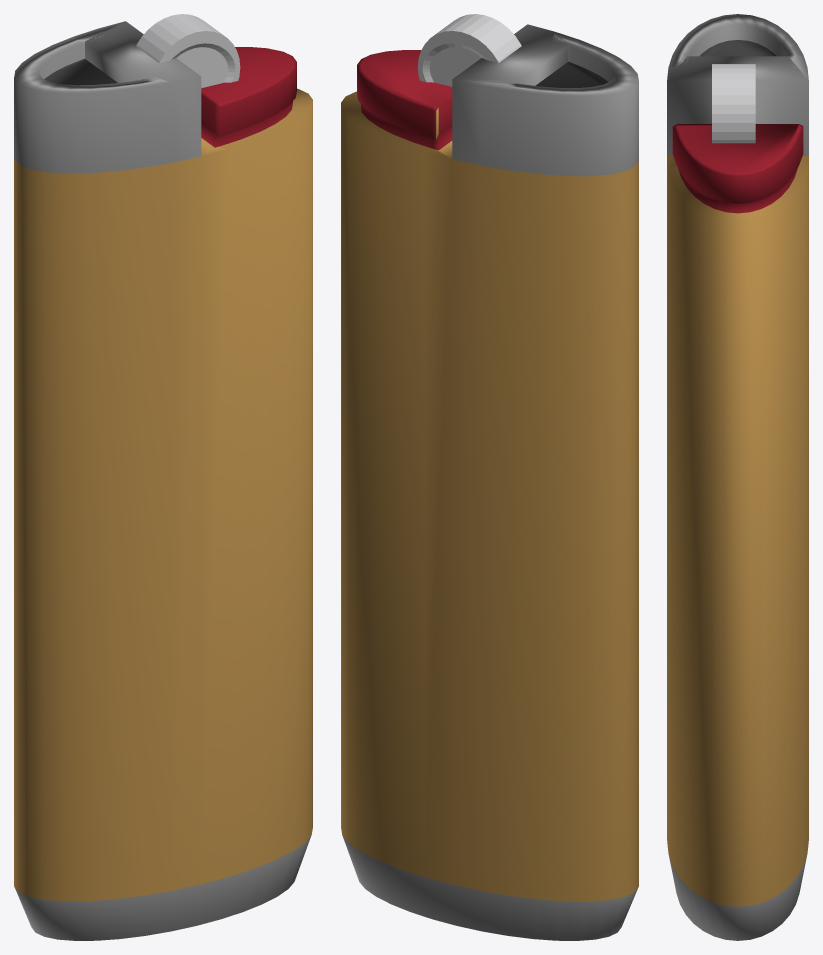
Rendered from lighter.glb.
The picture shows the model from 3 angles, left to right: view 1: azimuth 30°, elevation 25°; view 2: azimuth 150°, elevation 25°; view 3: azimuth 270°, elevation 25°; orthographic projection. The views are drawn at different scales.
Visible parts, largest first — view 1: lighter; view 2: lighter; view 3: lighter.
Boxes of the visible parts, bbox=[...] form: lighter: bbox=[14, 14, 312, 940]; lighter: bbox=[341, 14, 638, 940]; lighter: bbox=[667, 14, 808, 940].
Bounding box in the file's own units: 0.037 × 0.1068 × 0.0167.
Materials: 1 (1 with a texture image).
